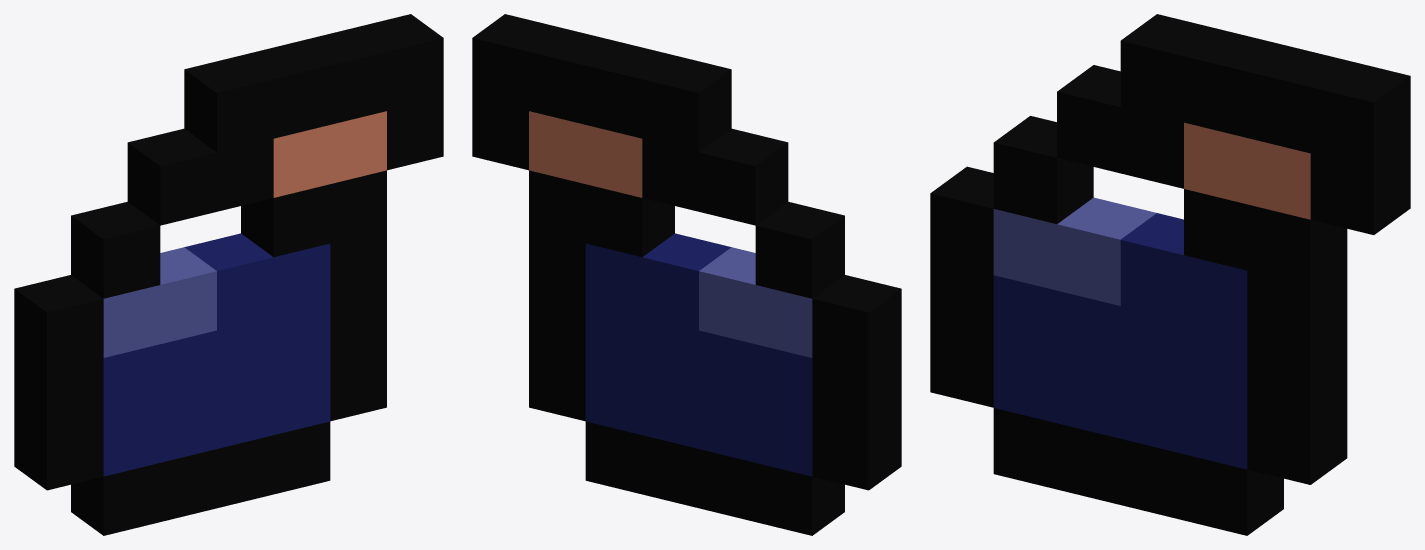
Rendered from Splash Defense Potion.glb.
3 renders of one model, left to right at view 1: azimuth 30°, elevation 25°; view 2: azimuth 150°, elevation 25°; view 3: azimuth 330°, elevation 25°, orthographic. The views are drawn at different scales.
Visible parts, largest first — view 1: generated(Clone); view 2: generated(Clone); view 3: generated(Clone).
Part boxes in pixels (<box>): generated(Clone): <box>14,14,443,535</box>; generated(Clone): <box>472,14,901,535</box>; generated(Clone): <box>930,14,1410,535</box>.
Size of the model in its own units: 7 by 7 by 1.
Materials: 1 (1 with a texture image).
